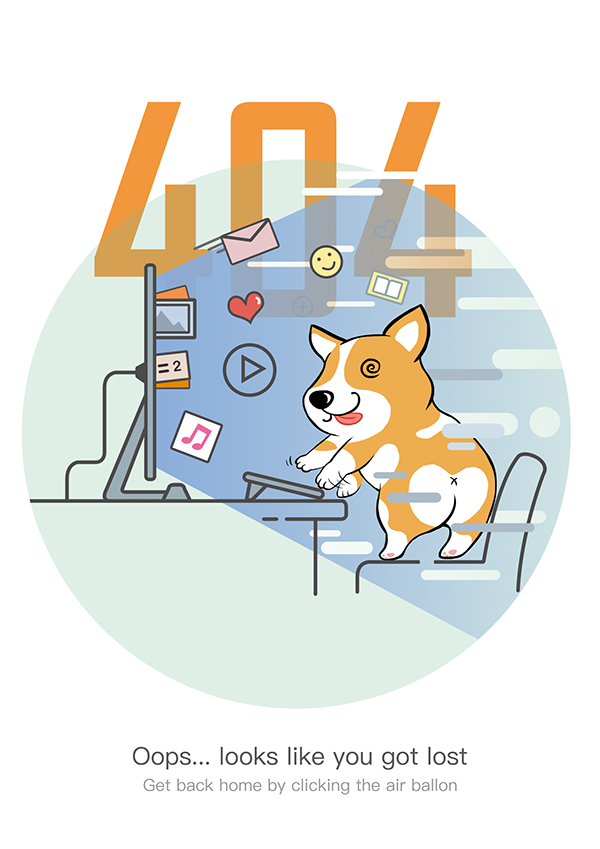cat: (289, 295, 551, 604)
